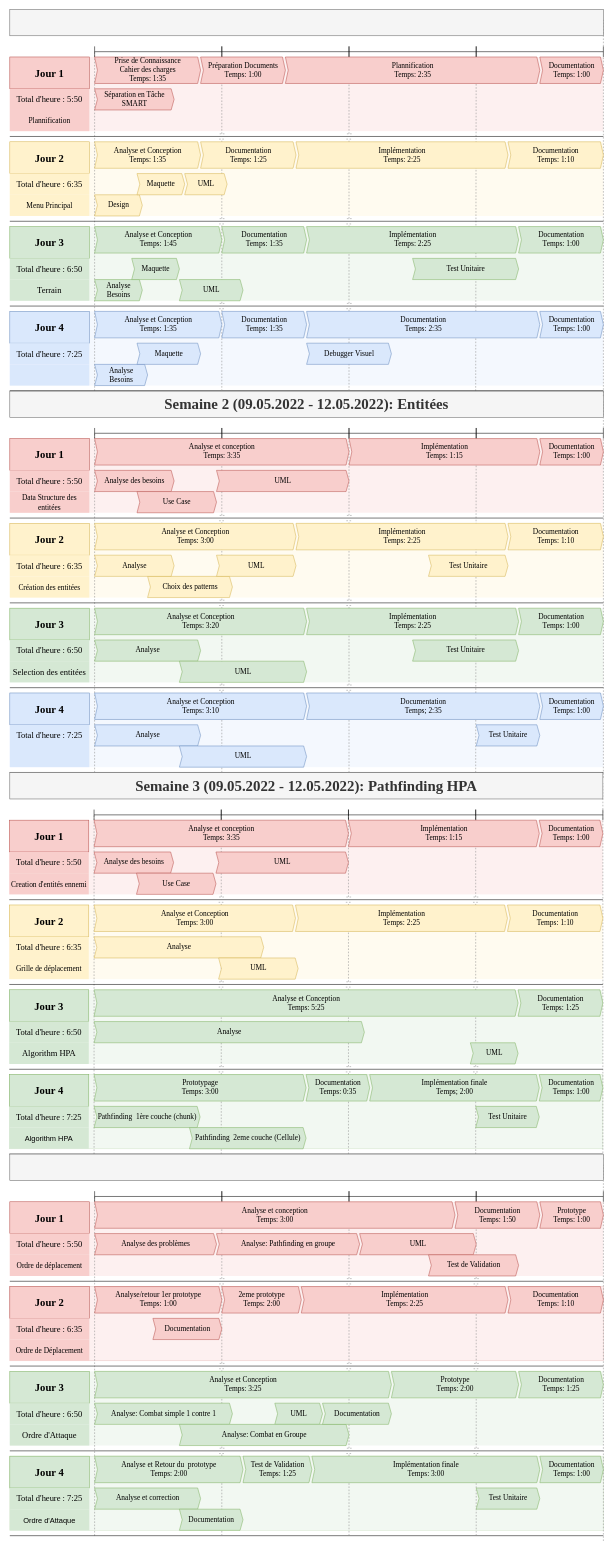
Some shapes in this 613 by 1551 pixel diagram are drawn without their labels. The shapes that lost their labels are listed below. From the top down, each one's centre as x and y in pixels, then its label:
(x=306, y=22): Semaine 1 (02.05.2022 - 06.05.2022): Environnement
(x=49, y=374): Obstacles et objectifs
(x=49, y=756): Ordre de Placement
(x=306, y=1167): Semaine 4 (09.05.2022 - 12.05.2022): Intelligence Artificielle
